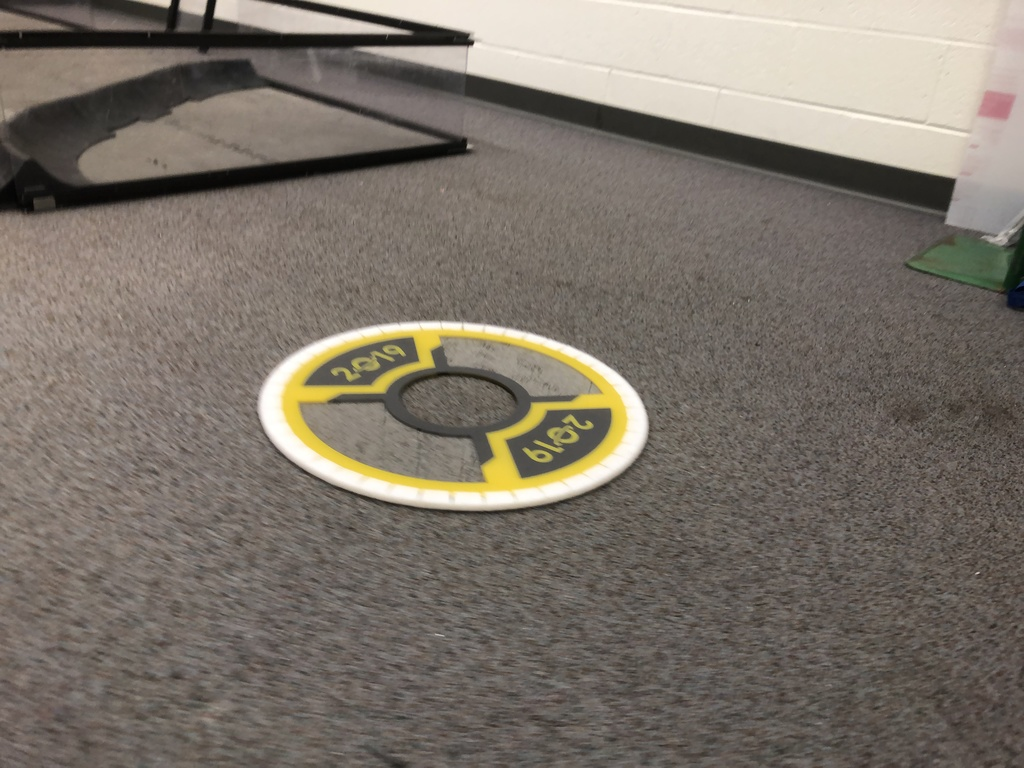hatch_panel: (250, 309, 658, 522)
